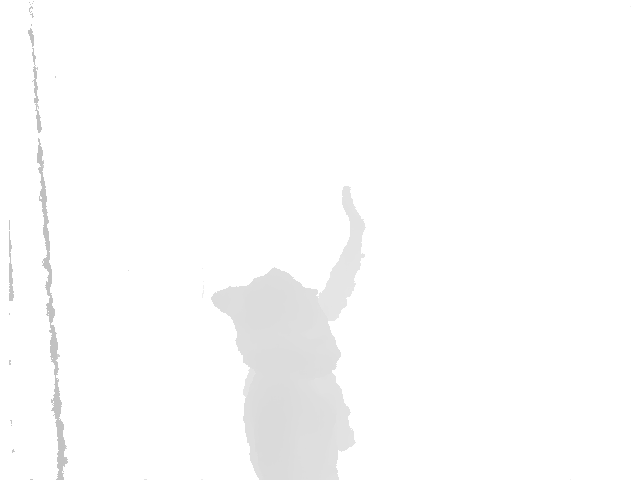hand: (337, 184, 367, 228)
head: (211, 266, 324, 339)
person: (211, 183, 368, 480)
